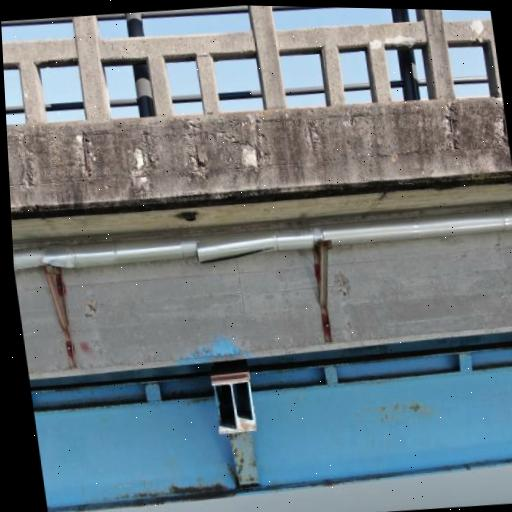exposed_rebar: (448, 103, 457, 149), (24, 146, 33, 186), (143, 130, 152, 169), (82, 133, 90, 175), (503, 108, 509, 147), (255, 121, 260, 166), (195, 146, 205, 168), (309, 125, 315, 151), (190, 120, 195, 138)
spalling: (441, 102, 460, 149), (75, 134, 96, 176), (131, 148, 148, 189), (22, 141, 34, 186), (494, 116, 509, 146), (305, 122, 319, 151), (242, 144, 258, 166)
